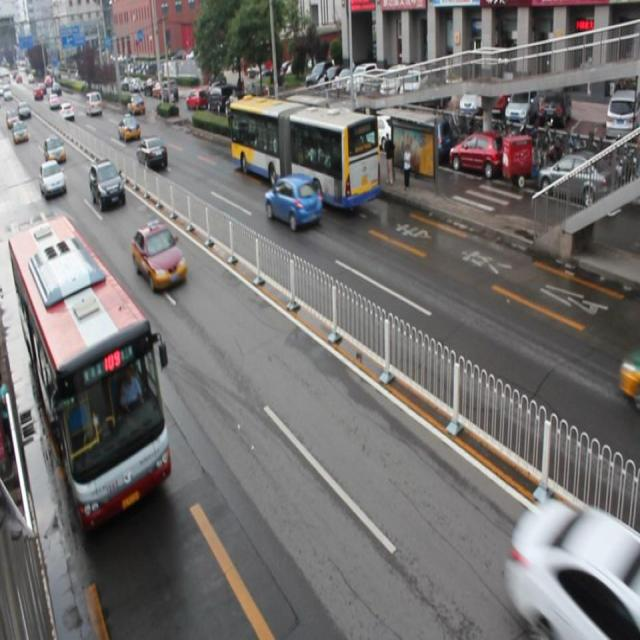car: (132, 220, 186, 290), (264, 175, 321, 229), (90, 159, 126, 211), (136, 135, 166, 170), (41, 163, 66, 195)
van: (1, 215, 171, 527), (227, 93, 378, 212)
